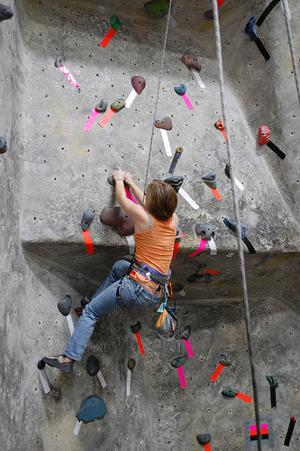person: (41, 165, 179, 375)
